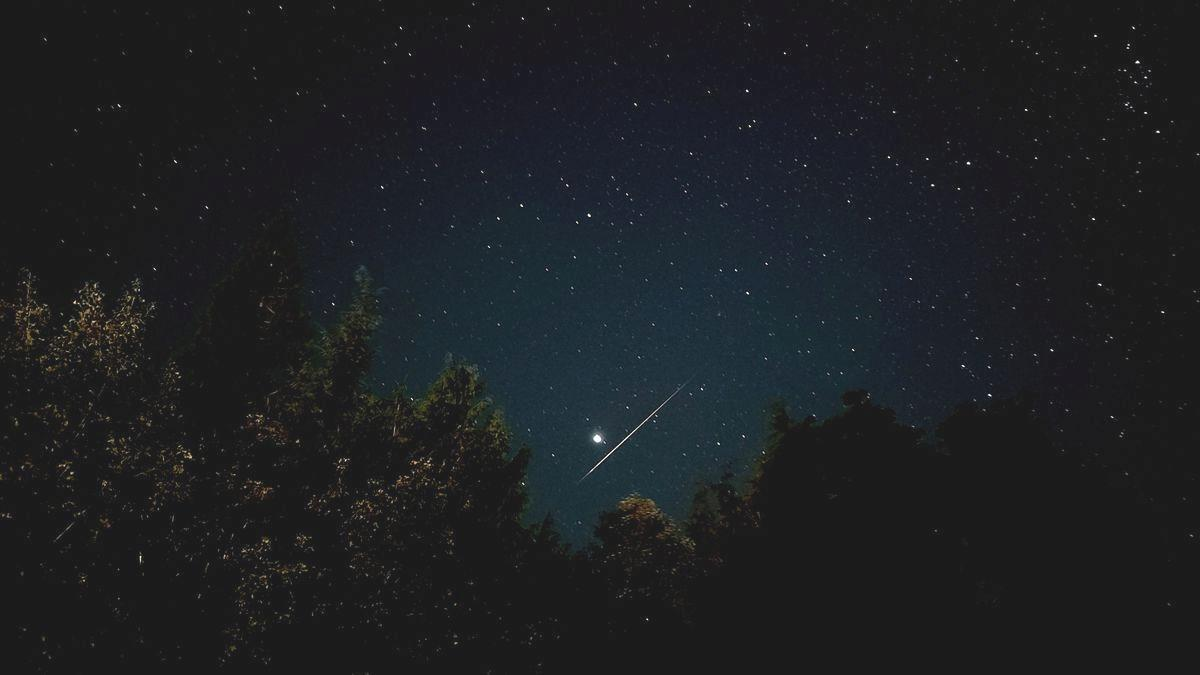meteorite: (564, 376, 718, 477)
